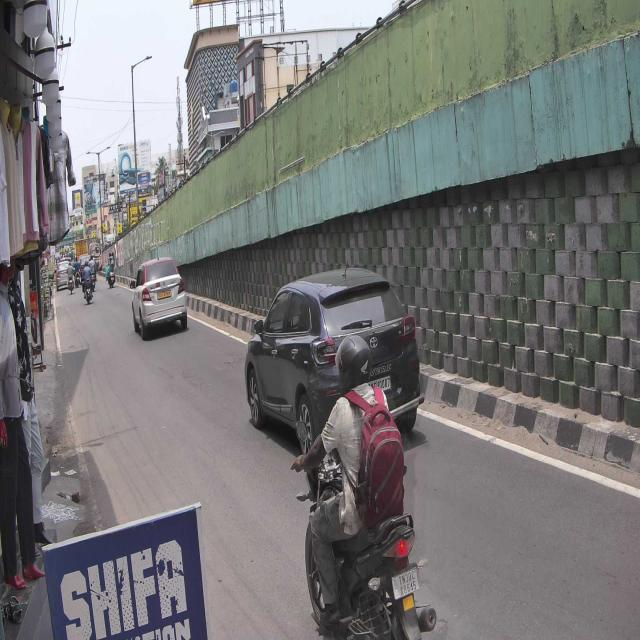single_rider: (289, 329, 437, 640)
